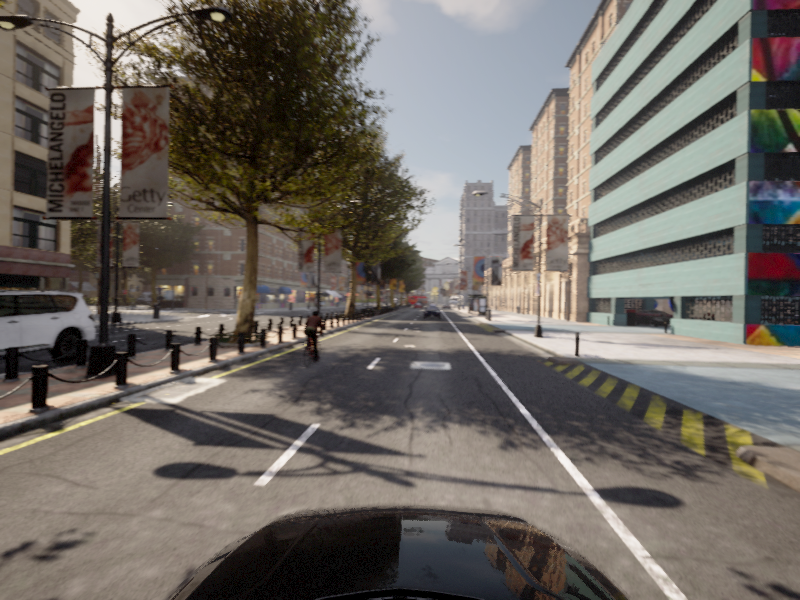vehicle: (1, 285, 107, 396), (293, 310, 330, 369), (1, 307, 5, 379), (423, 306, 441, 319)
